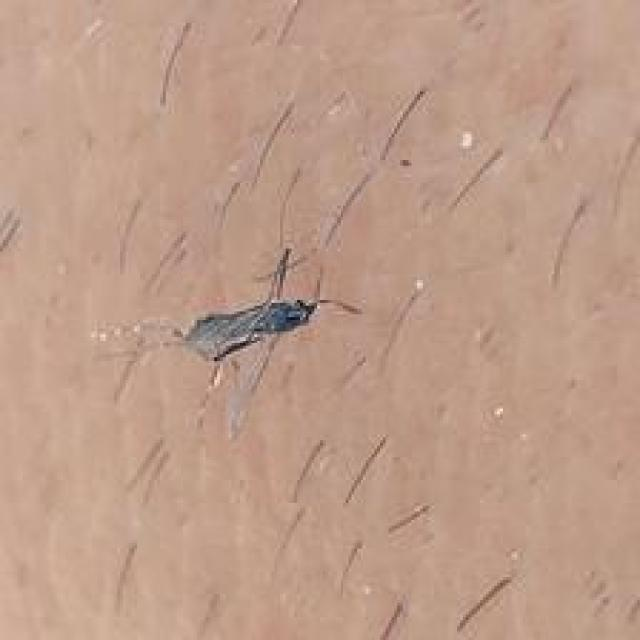Aedes albopictus: (90, 246, 361, 437)
